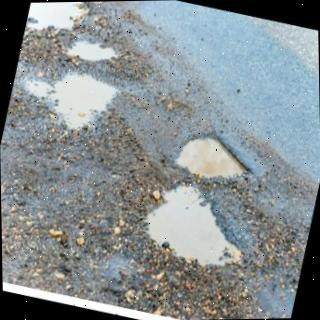pothole: (146, 187, 238, 266), (35, 76, 115, 129), (176, 139, 245, 177), (27, 1, 86, 28), (68, 43, 115, 61)
